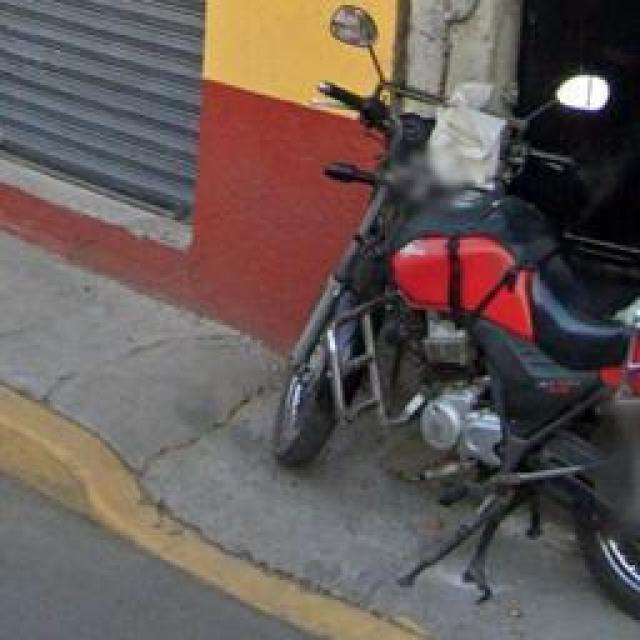motorcycle: (272, 8, 638, 618)
